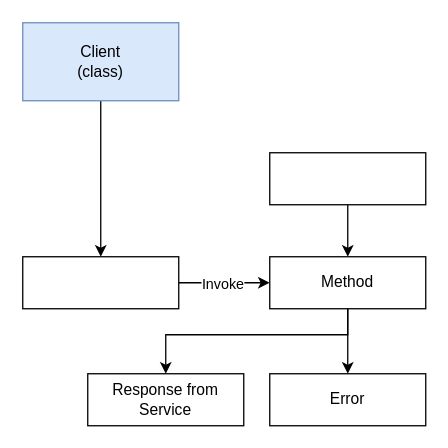
The diagram is 448 pixels wide and 448 high, and some of its shapes have lost their labels. Each missing label, with the box of its shape:
Client (instance): (21, 255, 179, 309)
Input: (268, 151, 426, 205)
